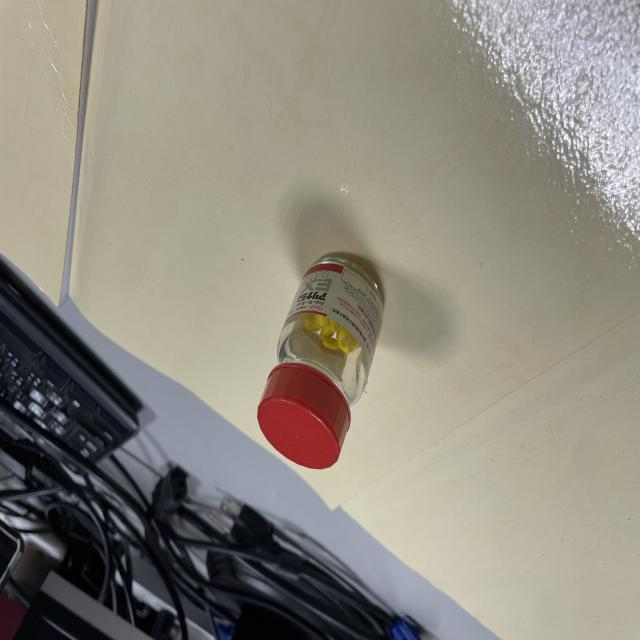Medicine-Jar: (240, 239, 401, 474)
